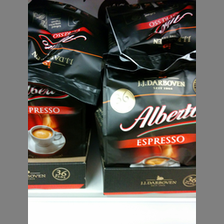coffee: (101, 21, 195, 168), (27, 74, 88, 160)
